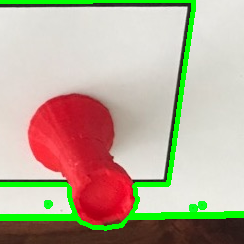Red Castle: (23, 91, 145, 227)
